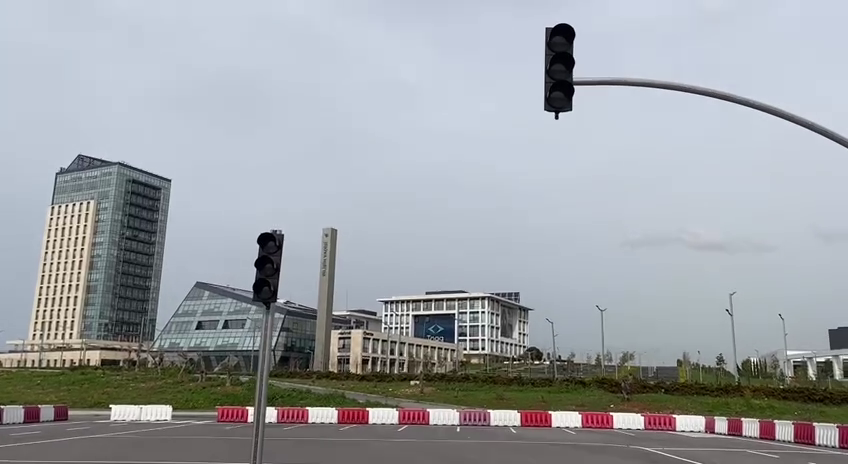trafficLight: (538, 20, 578, 121), (250, 226, 289, 311)
